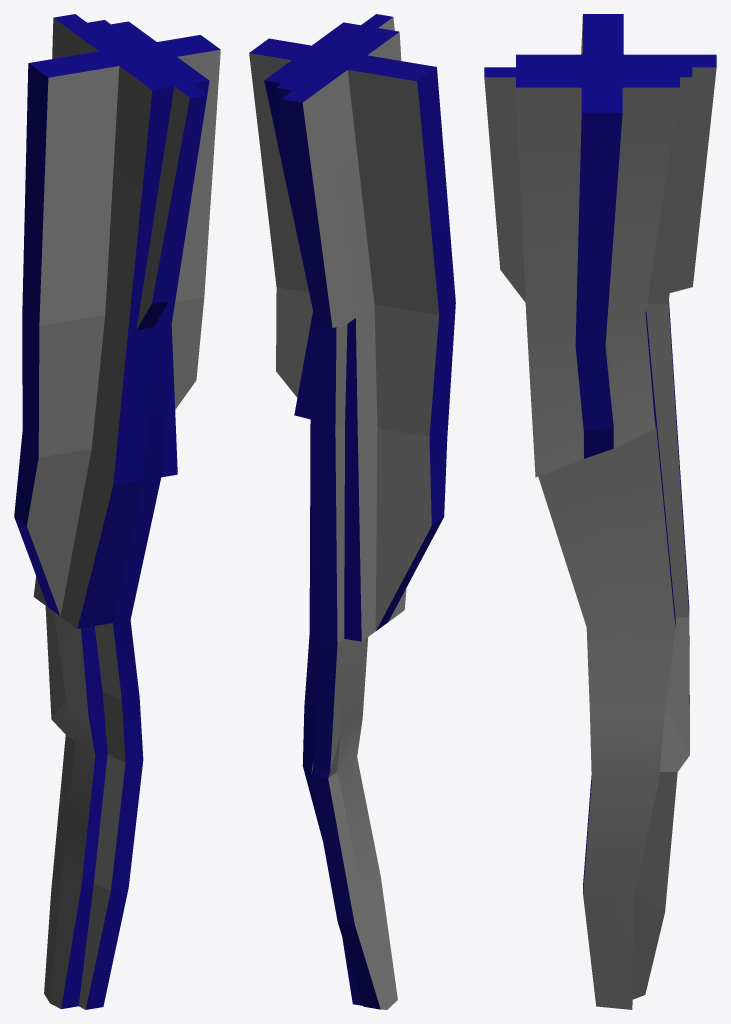
The model's file is estalactita1fixed.fbx.
The picture shows the model from 3 angles, left to right: view 1: azimuth 30°, elevation 25°; view 2: azimuth 150°, elevation 25°; view 3: azimuth 270°, elevation 25°; orthographic projection. The views are drawn at different scales.
Parts seen in each view (by area): view 1: Box001; view 2: Box001; view 3: Box001.
Part boxes in pixels (x1,y1,x2,y2): Box001: (14,14,220,1009); Box001: (249,14,455,1009); Box001: (484,14,716,1009).
Size of the model in its own units: 7.17 by 35.04 by 7.64.
